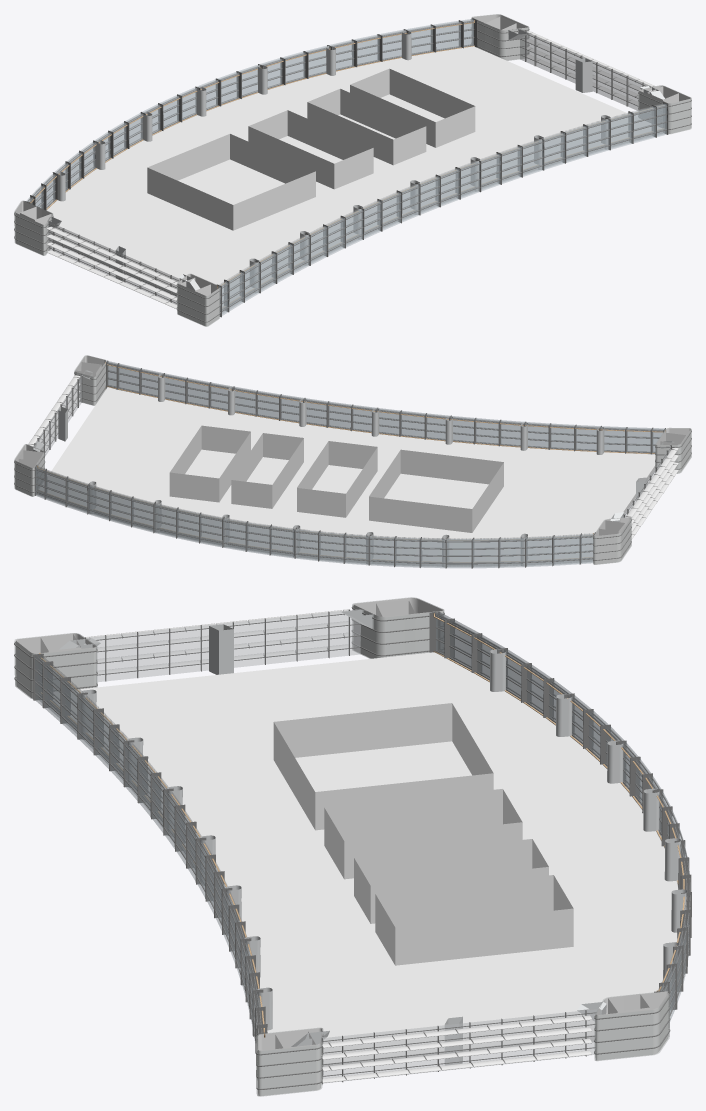
3 views of the same model, one above another, from view 1: azimuth 30°, elevation 25°; view 2: azimuth 150°, elevation 25°; view 3: azimuth 270°, elevation 25° (orthographic). The views are drawn at different scales.
Parts seen in each view (by area): view 1: floor.010; view 2: floor.010; view 3: floor.010.
Boxes of the visible parts, left/top/right/bottom form: floor.010: left=14, top=14, right=691, bottom=326; floor.010: left=14, top=355, right=691, bottom=568; floor.010: left=14, top=597, right=691, bottom=1096.
Bounding box in the file's own units: 81.75 × 3.82 × 51.54.
13 materials, 1 textured.
